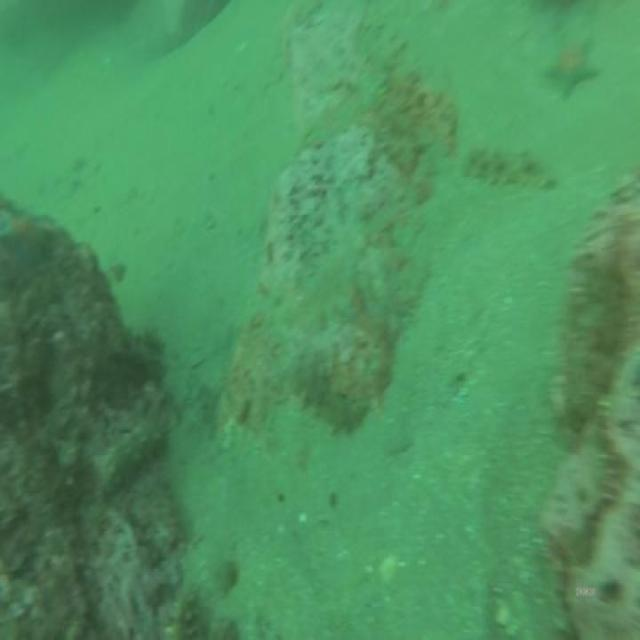holothurian: (96, 414, 168, 499), (462, 139, 556, 196), (298, 367, 372, 439)
starfish: (544, 29, 603, 101), (0, 202, 44, 265)
